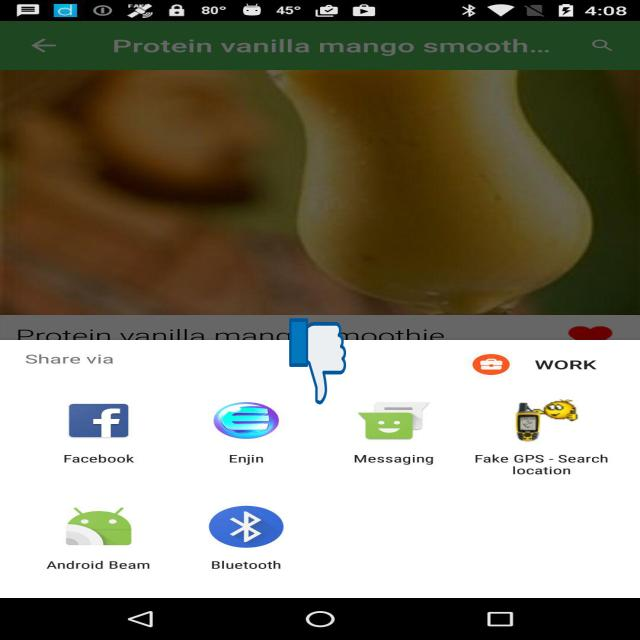obstruction: (289, 316, 346, 406)
